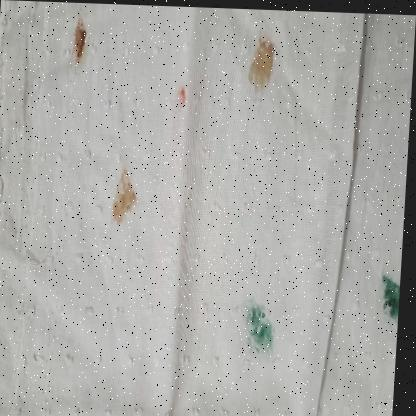spot: (244, 297, 281, 356), (379, 267, 404, 323), (246, 56, 273, 93), (71, 11, 87, 65), (256, 30, 278, 63), (109, 196, 135, 223), (118, 167, 138, 201), (175, 80, 188, 110), (0, 404, 4, 416)
